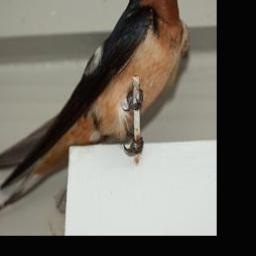Swallow: (0, 0, 182, 222)
